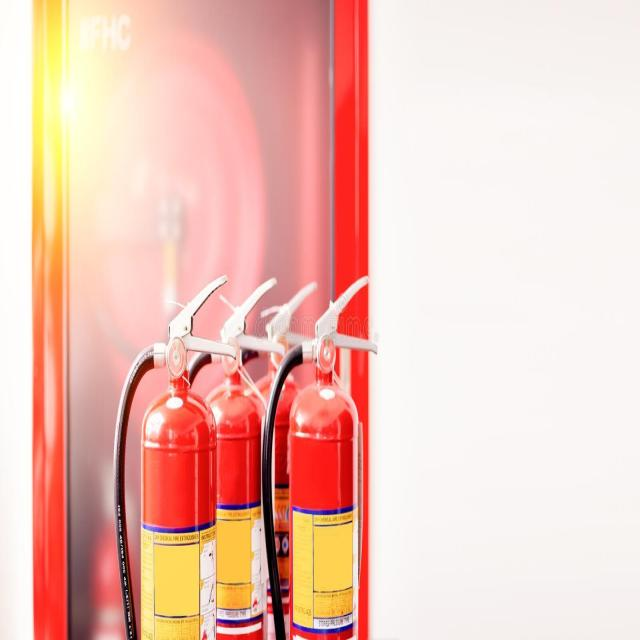fire_extinguisher: (111, 272, 239, 639), (258, 271, 378, 639), (175, 269, 288, 639), (221, 277, 323, 639)
